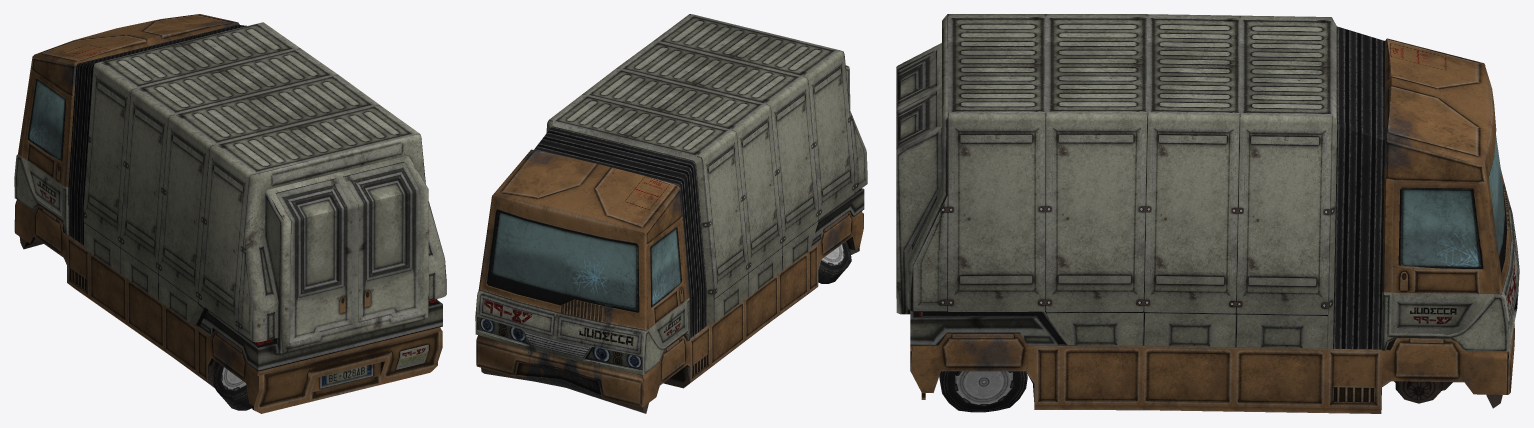
Rendered from sci-fi_van.glb.
3 renders of one model, left to right at view 1: azimuth 30°, elevation 25°; view 2: azimuth 150°, elevation 25°; view 3: azimuth 270°, elevation 25°, orthographic. The views are drawn at different scales.
Parts seen in each view (by area): view 1: Object001_Material #55_0; view 2: Object001_Material #55_0; view 3: Object001_Material #55_0.
Part boxes in pixels (box(x1,y1,x2,y2)): Object001_Material #55_0: box(14, 14, 446, 413); Object001_Material #55_0: box(475, 14, 867, 413); Object001_Material #55_0: box(896, 14, 1519, 413).
Size of the model in its own units: 96.8 by 116 by 216.
Materials: 1 (1 with a texture image).
